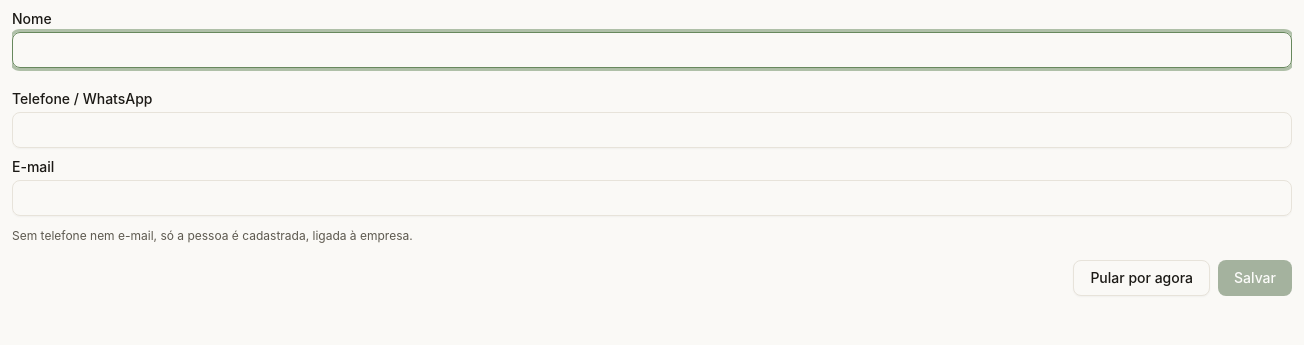
Test: FormPessoaComContato › telefone repetido (409): mostra a mensagem do servidor e não conclui
In the field labelled "Nome": (652, 50) [12,32,1292,68], type "Ana"
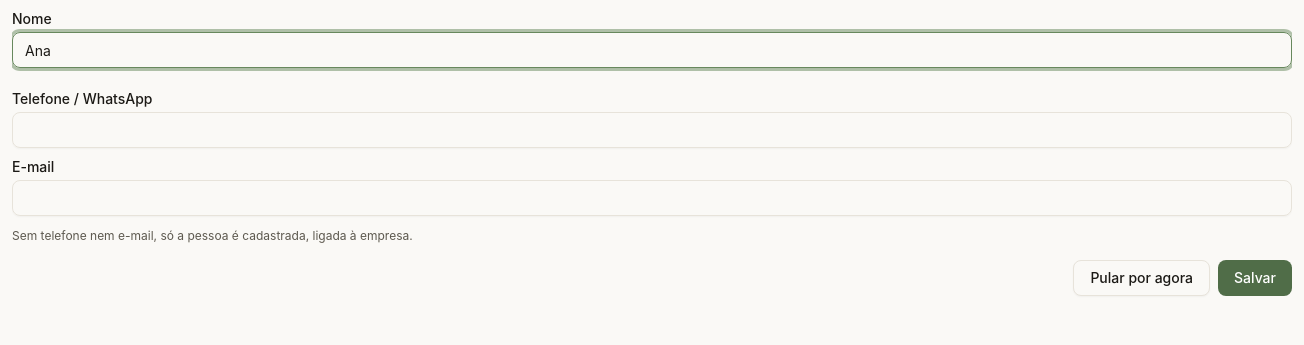
Click the button "Salvar": (1255, 278) [1218,260,1292,296]
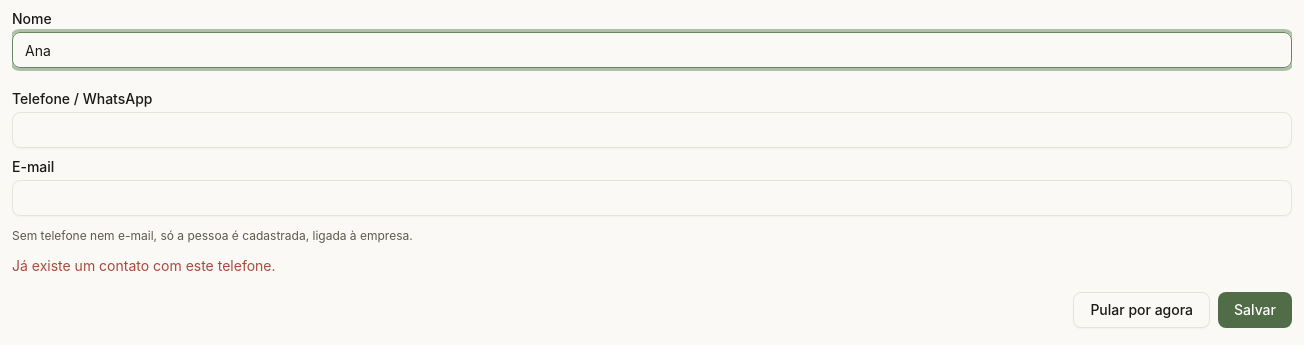
expect the message reads "Já existe um contato com este telefone.": met, box [12,257,276,274]
